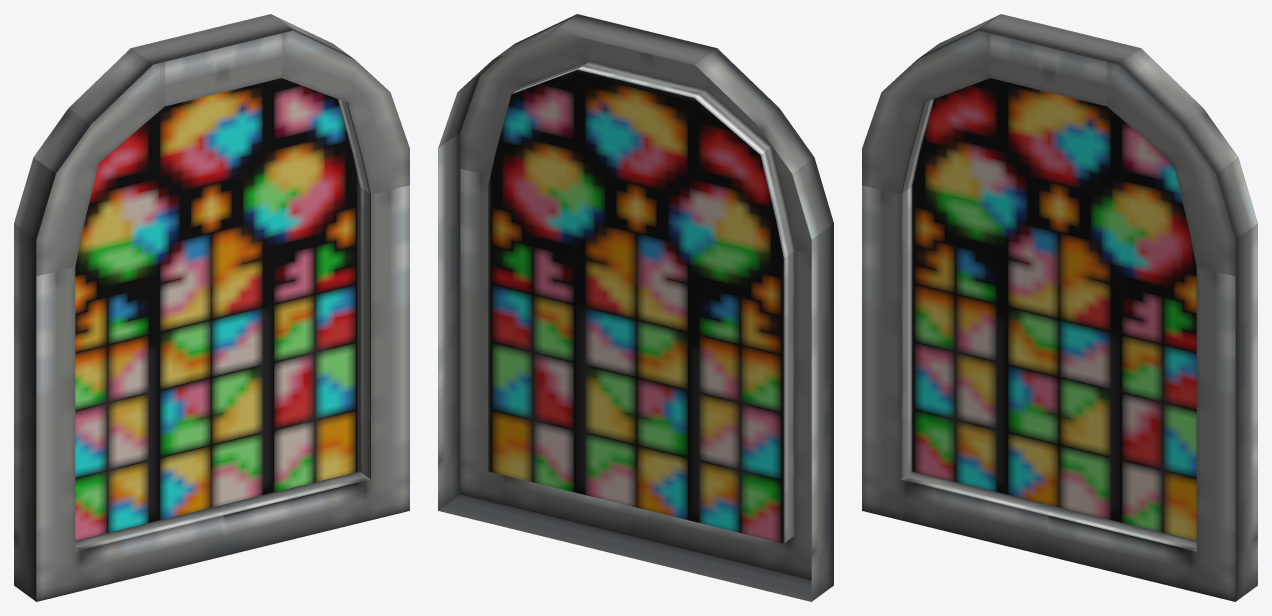
The model's file is Inside_Poly_Window_06.obj.
3 views of the same model, side by side, from view 1: azimuth 30°, elevation 25°; view 2: azimuth 150°, elevation 25°; view 3: azimuth 330°, elevation 25° (orthographic).
Parts seen in each view (by area): view 1: Cube.001_Cube; view 2: Cube.001_Cube; view 3: Cube.001_Cube.
Part boxes in pixels (x1=…): Cube.001_Cube: x1=14, y1=14, x2=409, y2=601; Cube.001_Cube: x1=438, y1=14, x2=833, y2=601; Cube.001_Cube: x1=862, y1=14, x2=1257, y2=601.
Size of the model in its own units: 0.96 by 1.25 by 0.1.
1 material, 1 textured.
